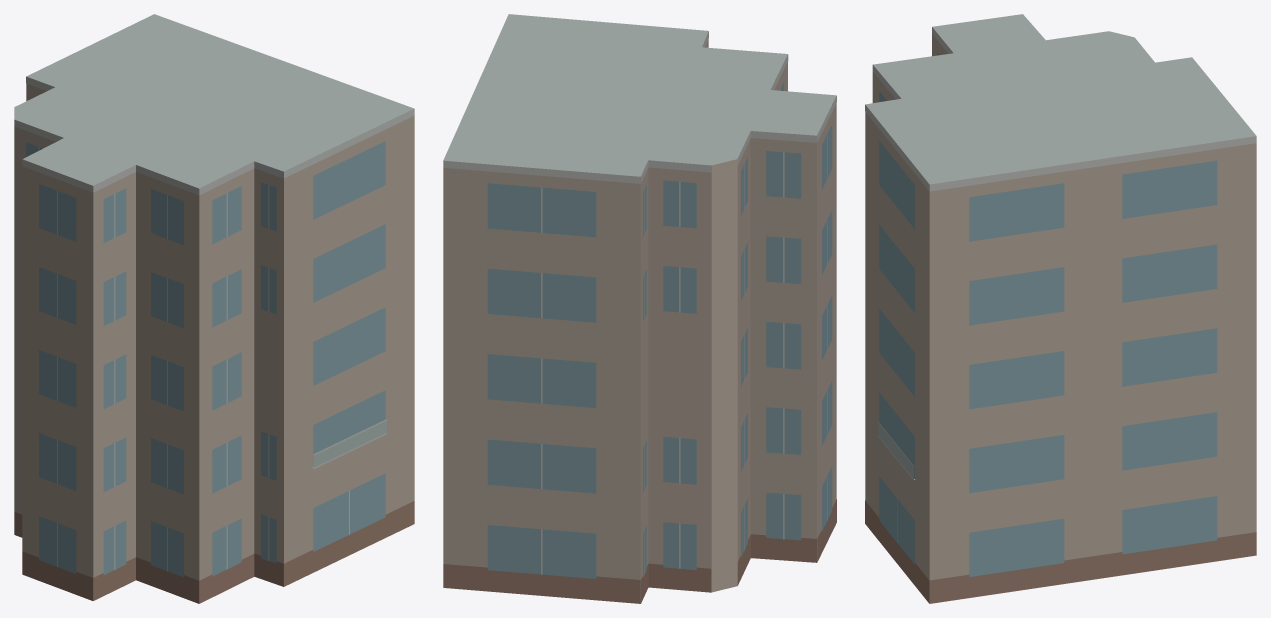
Rendered from survey-upis-32953439.glb.
3 views of the same model, side by side, from view 1: azimuth 30°, elevation 25°; view 2: azimuth 150°, elevation 25°; view 3: azimuth 270°, elevation 25° (orthographic). The views are drawn at different scales.
Parts seen in each view (by area): view 1: survey-upis-32953439.tmp; view 2: survey-upis-32953439.tmp; view 3: survey-upis-32953439.tmp.
Boxes of the visible parts, <box> form: survey-upis-32953439.tmp: <box>14,14,414,603</box>; survey-upis-32953439.tmp: <box>443,14,836,603</box>; survey-upis-32953439.tmp: <box>865,14,1256,603</box>.
Size of the model in its own units: 12.74 by 14.6 by 12.37.
